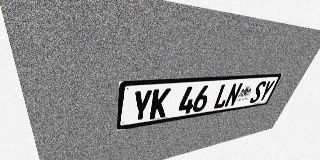4: (177, 86, 199, 115)
6: (191, 85, 212, 113)
K: (149, 88, 171, 120)
L: (212, 83, 233, 109)
N: (223, 83, 243, 108)
S: (248, 81, 267, 104)
Y: (131, 89, 153, 123), (257, 80, 276, 102)
